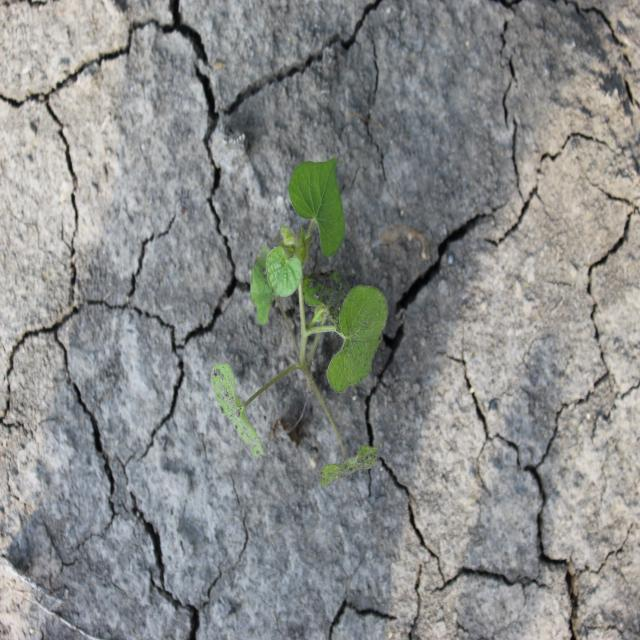MorningGlory: (209, 153, 390, 489)
